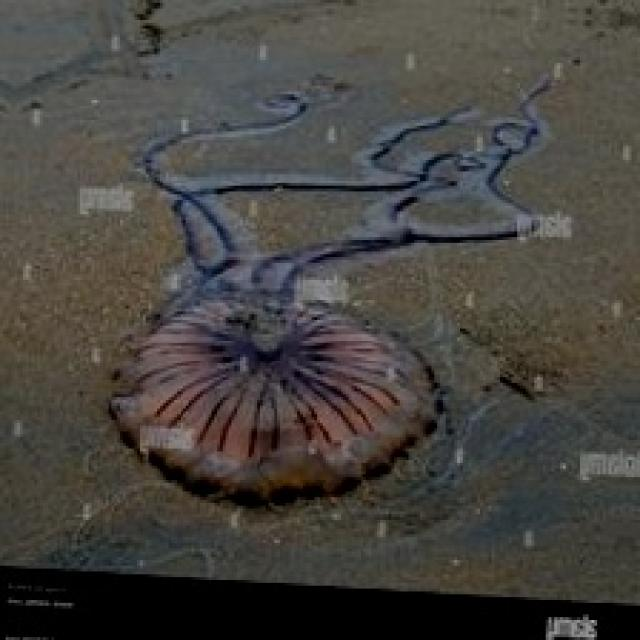Jellyfish: (103, 66, 574, 506)
